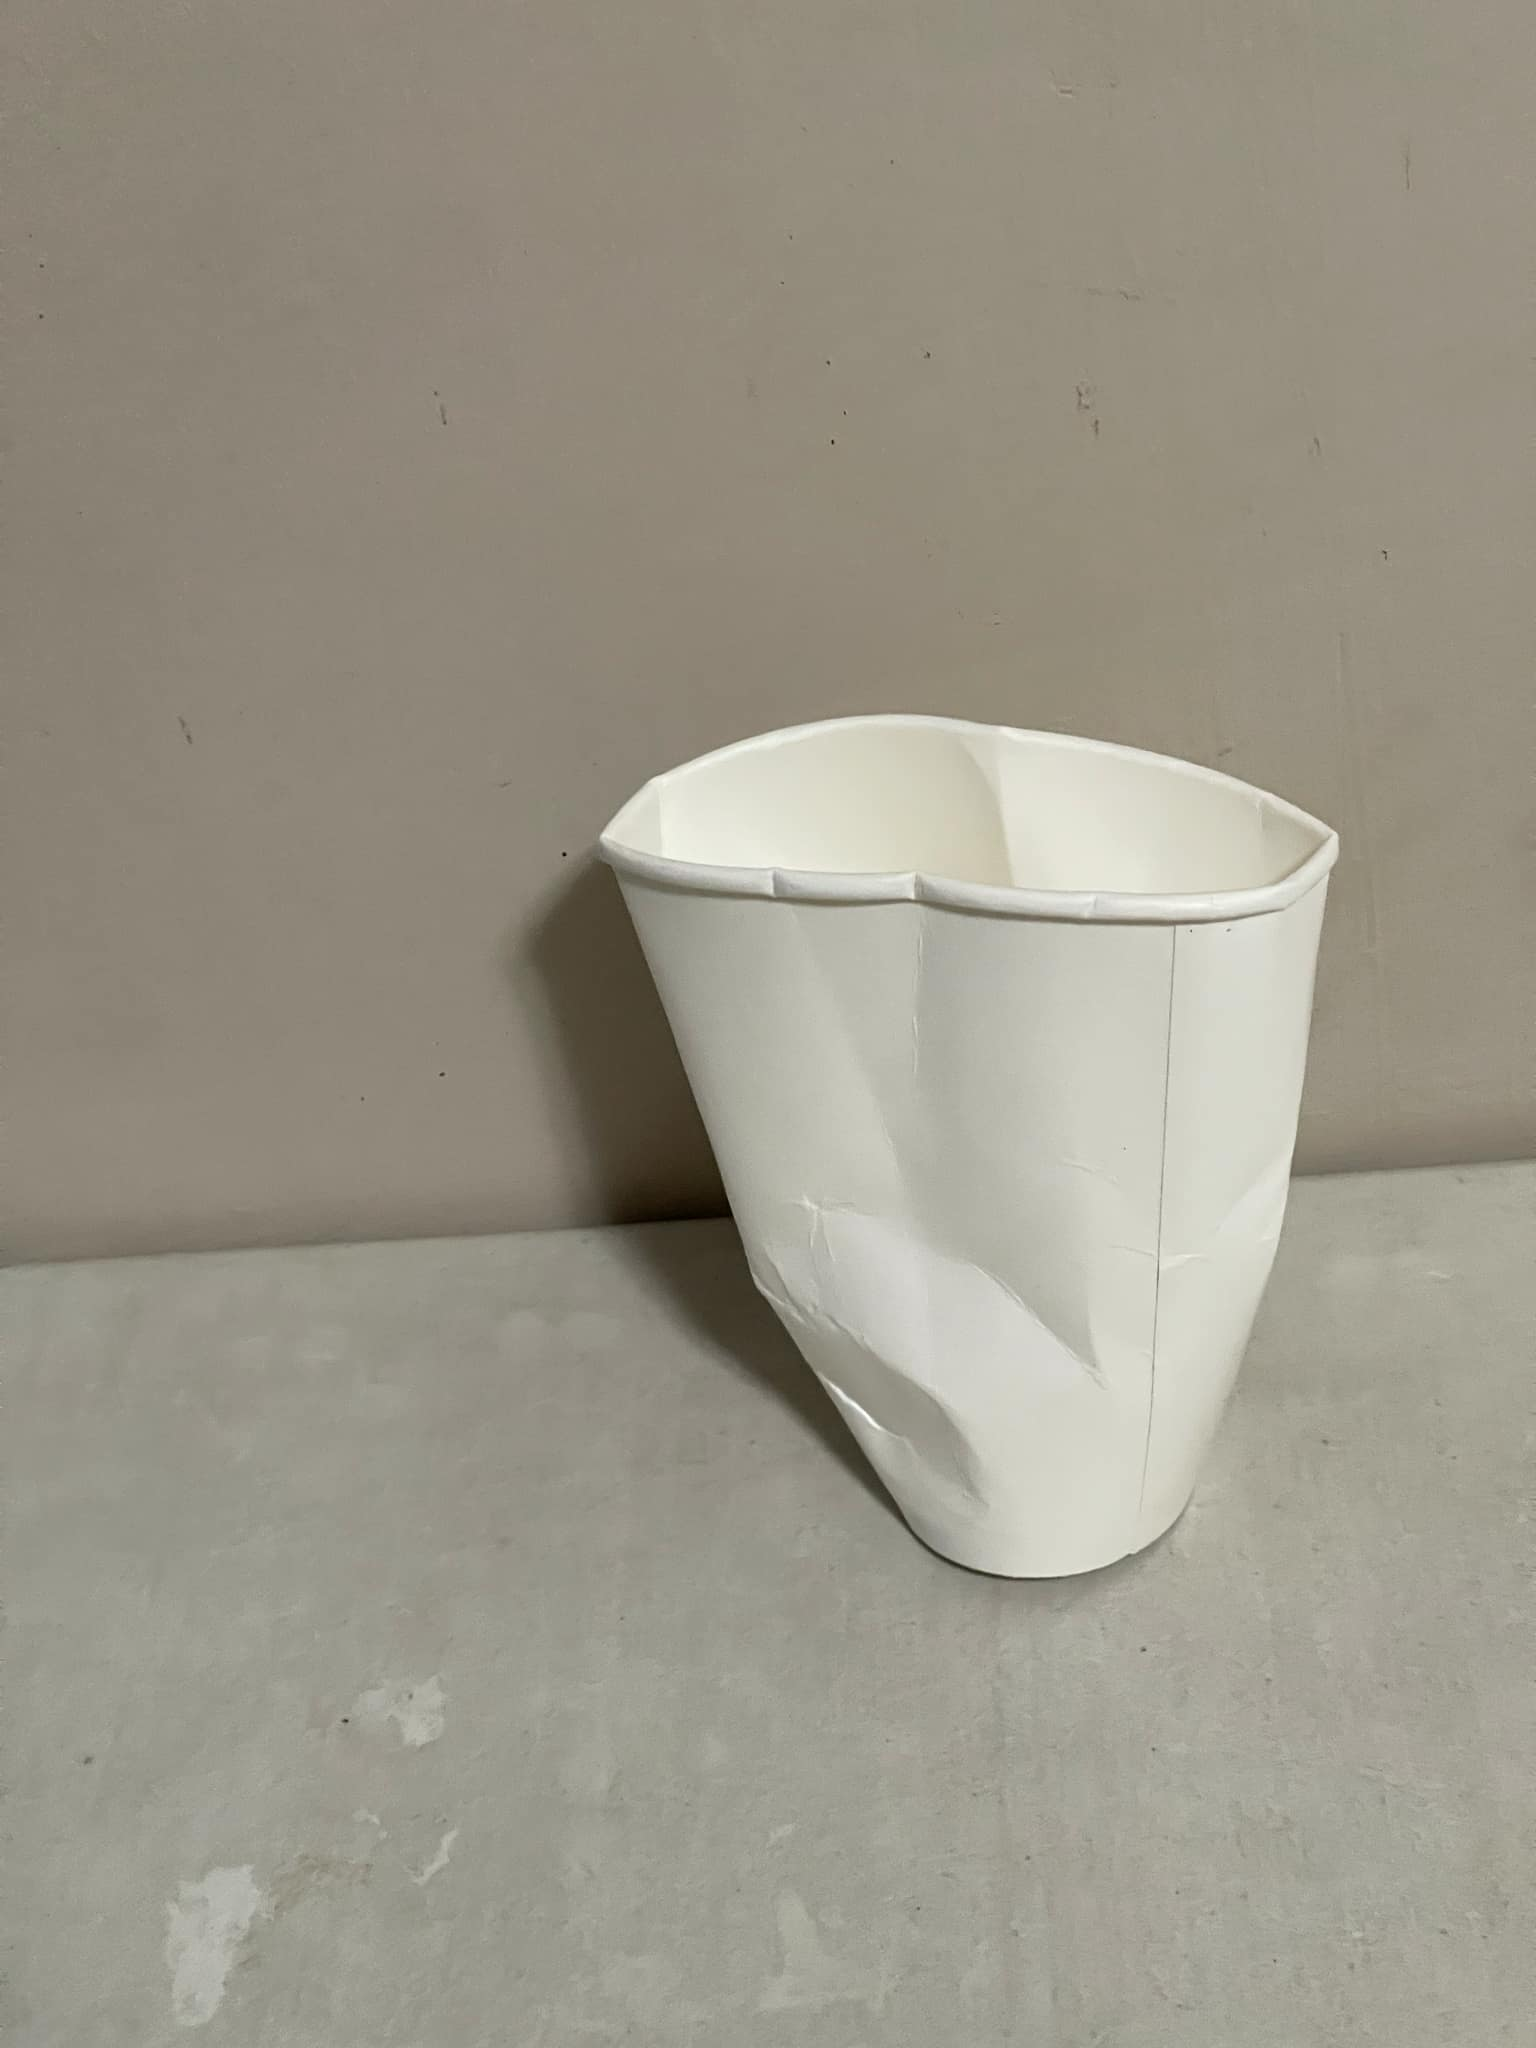Paper Food Packages: (574, 524, 1378, 1630)
